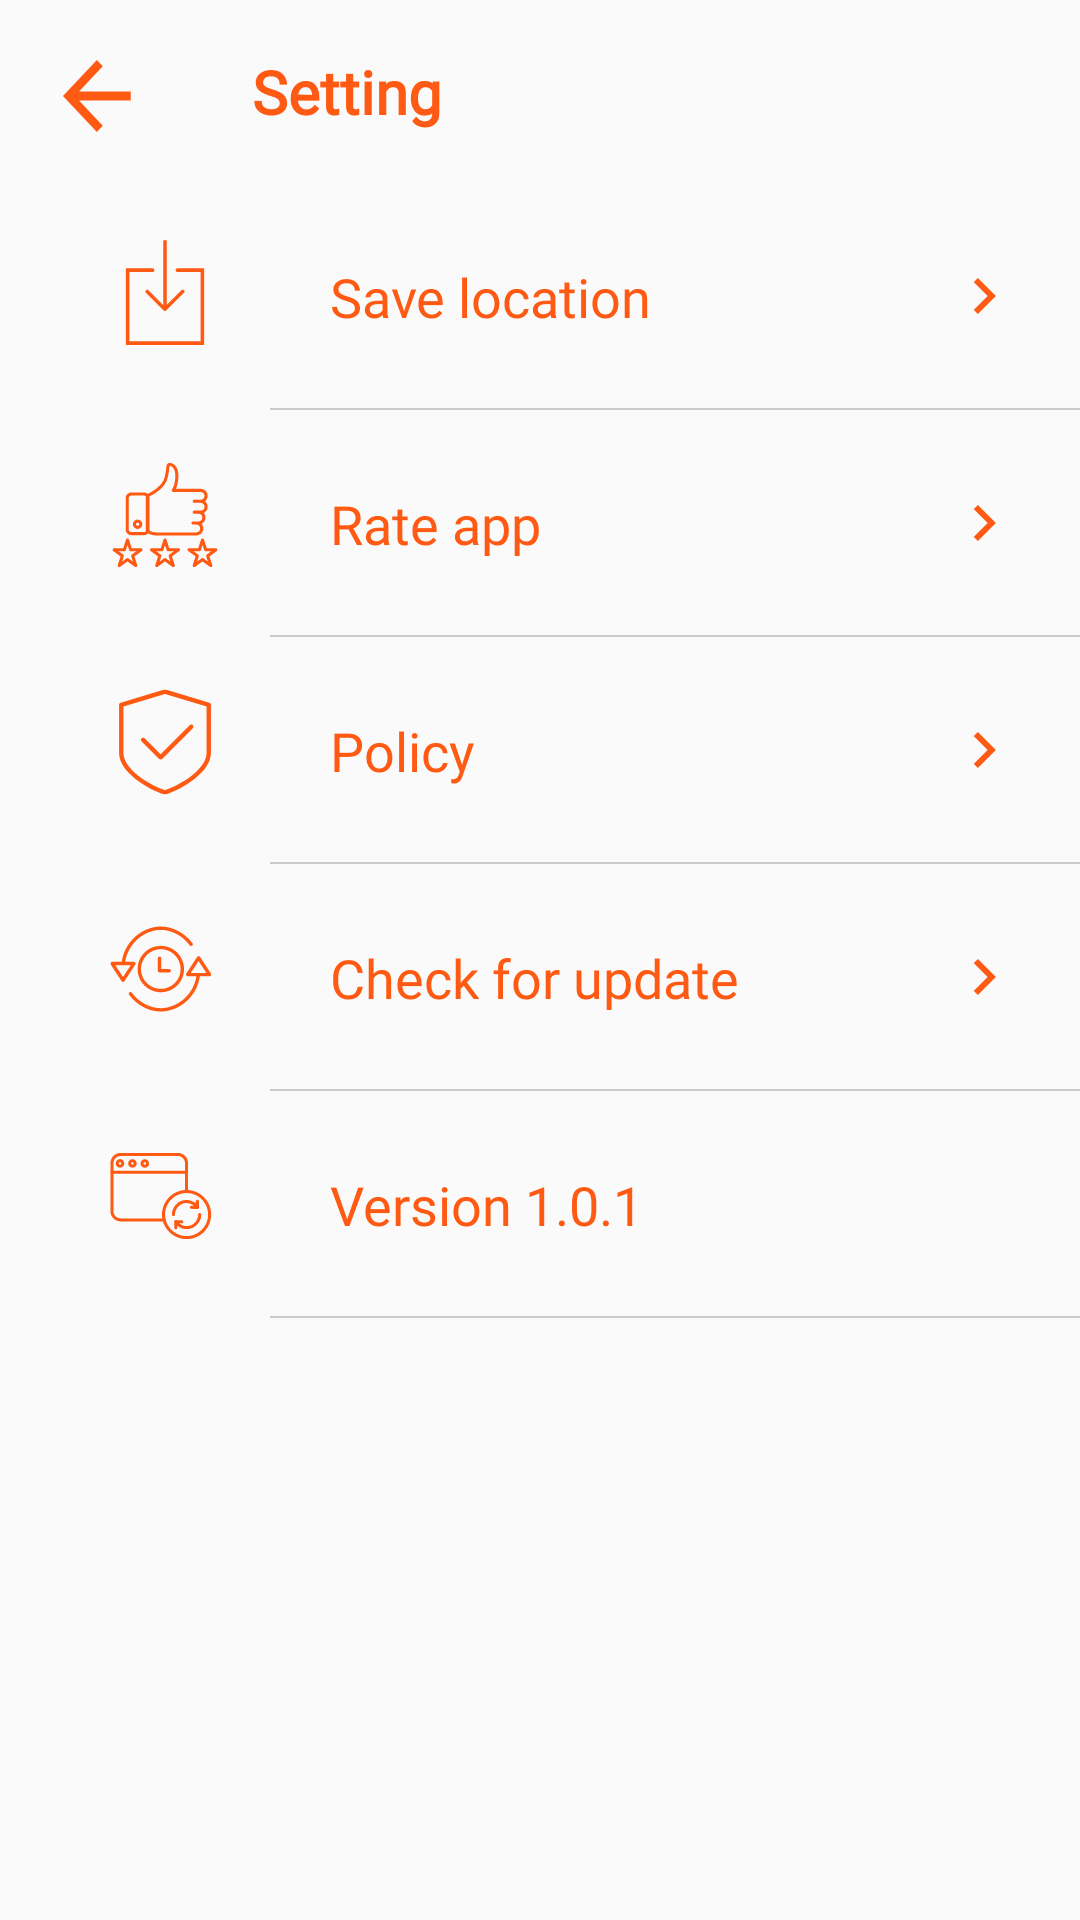

Screen size 1080×1920. Icon name, then its center in pixels as point (x, y):
back: point (97, 96)
chevron right: point (985, 296), point (985, 523), point (985, 750), point (985, 977)
